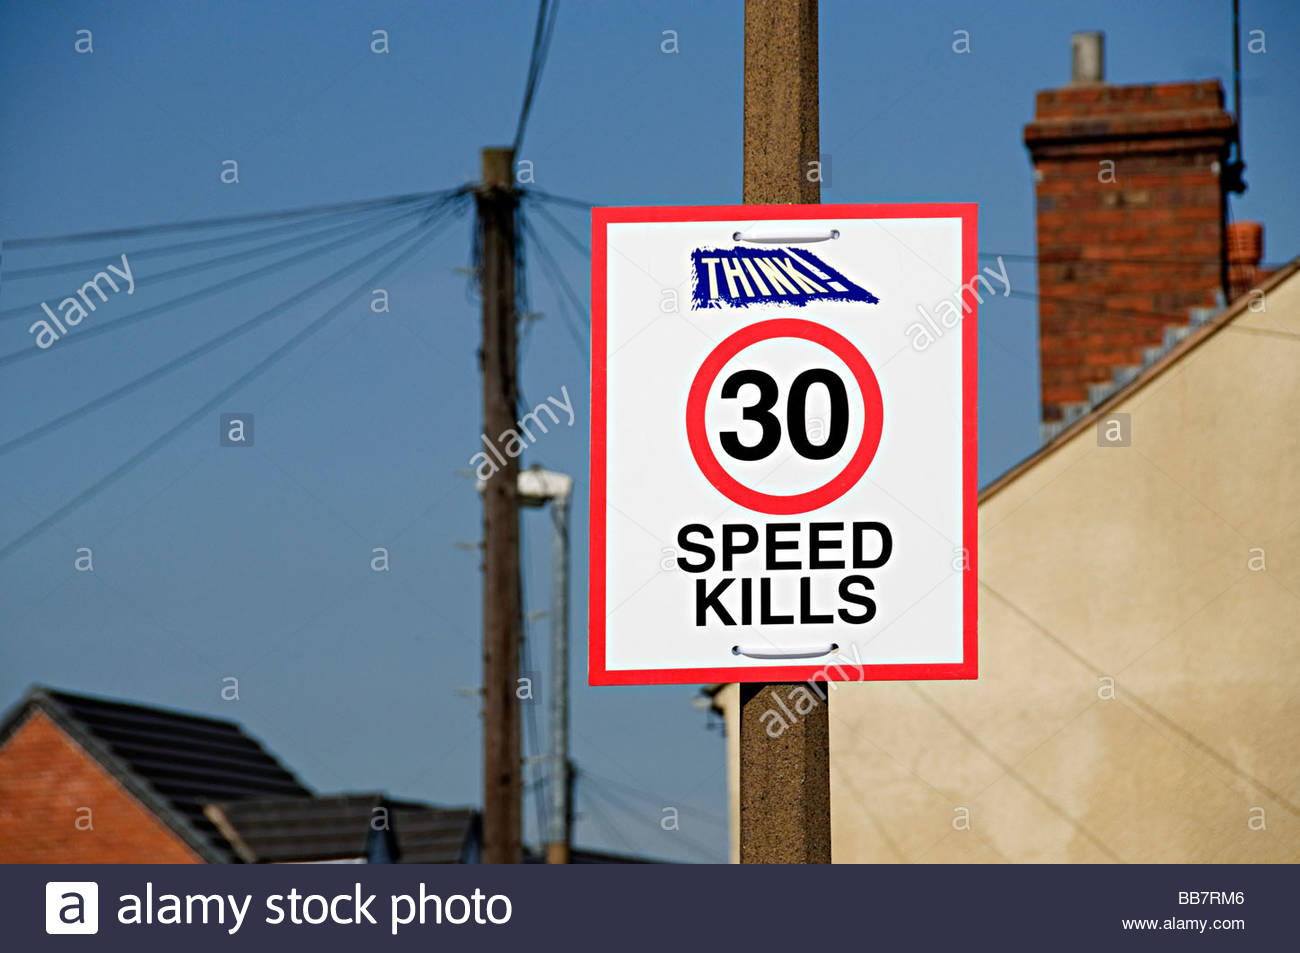Speed_limit_30km: (682, 320, 889, 518)
